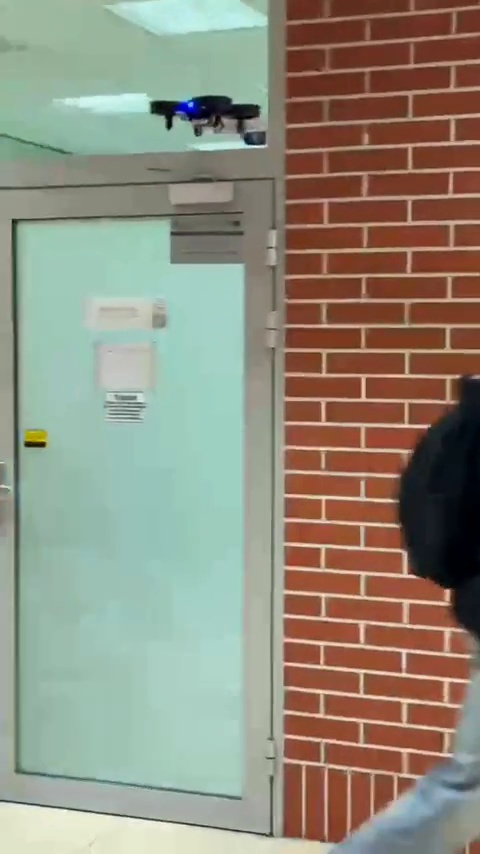drone: (155, 97, 260, 139)
